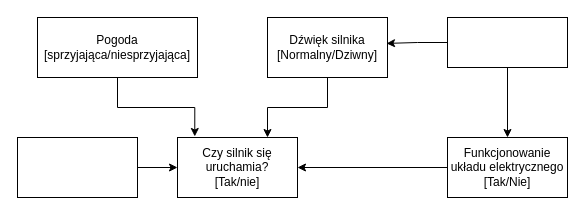
The diagram is 585 pixels wide and 215 high, and some of its shapes have lost their labels. Each missing label, with the centre of its shape:
"Serwis [aktualny/nieaktualny]" belongs at (x=507, y=42).
"Wiek akumulatora [stary/nowy]" belongs at (x=77, y=167).
